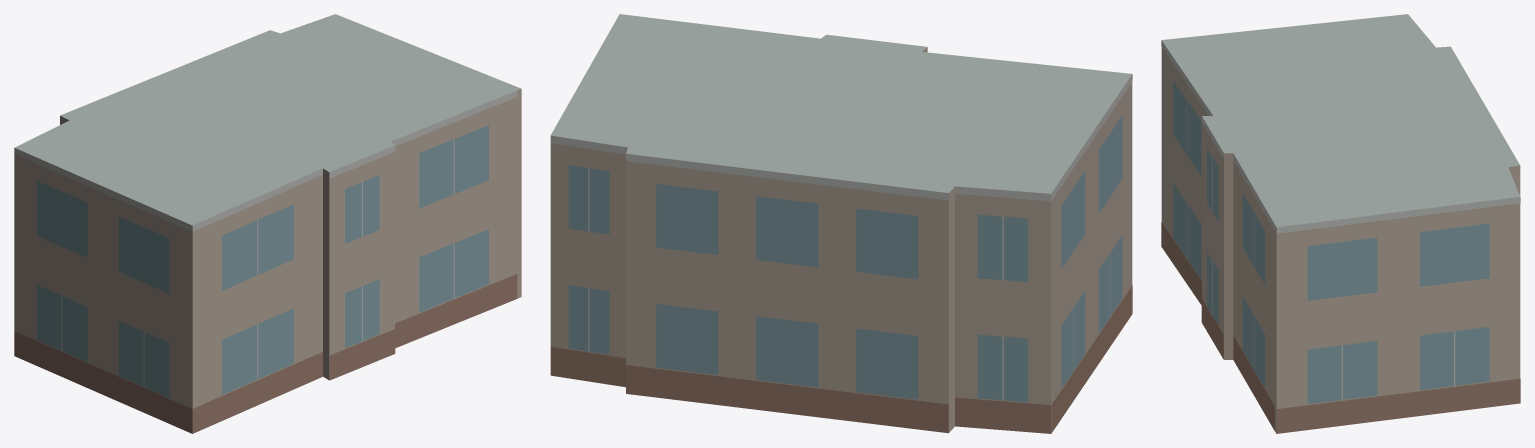
Rendered from survey-upis-32624075.glb.
The picture shows the model from 3 angles, left to right: view 1: azimuth 30°, elevation 25°; view 2: azimuth 150°, elevation 25°; view 3: azimuth 270°, elevation 25°; orthographic projection. The views are drawn at different scales.
Visible parts, largest first — view 1: survey-upis-32624075.tmp; view 2: survey-upis-32624075.tmp; view 3: survey-upis-32624075.tmp.
Part boxes in pixels (left/top/right/bottom): survey-upis-32624075.tmp: left=14, top=14, right=521, bottom=433; survey-upis-32624075.tmp: left=550, top=14, right=1132, bottom=433; survey-upis-32624075.tmp: left=1161, top=14, right=1520, bottom=433.
Size of the model in its own units: 17.51 by 7.9 by 12.45.
